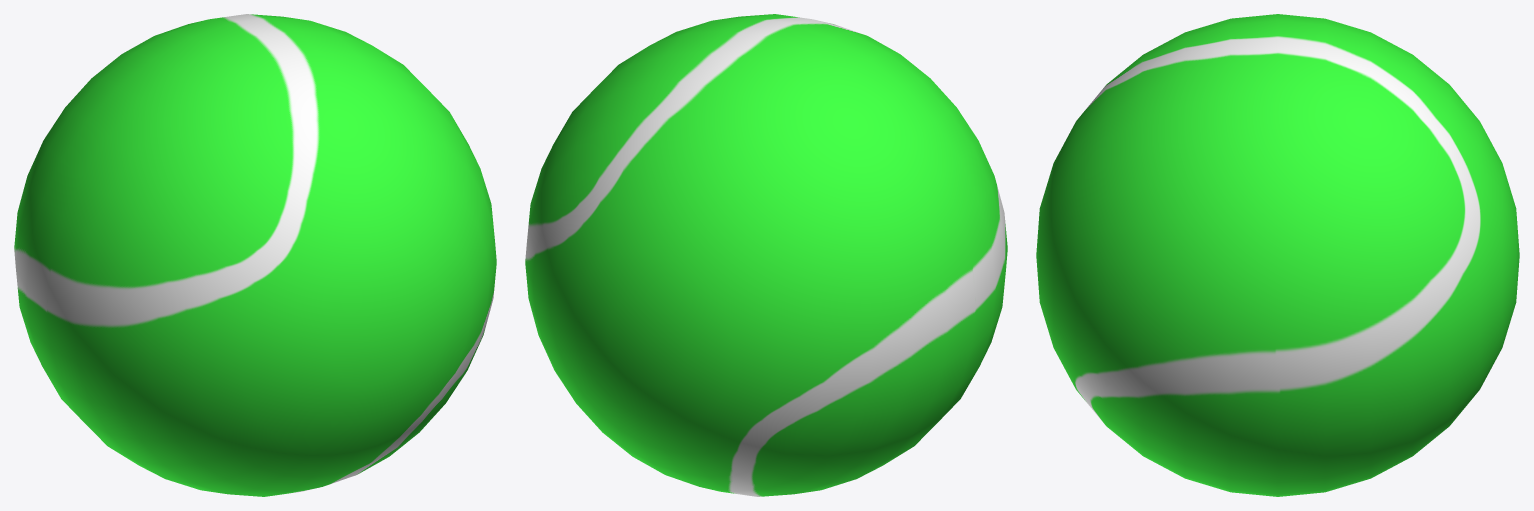
The model's file is tennis_ball.dae.
3 renders of one model, left to right at view 1: azimuth 30°, elevation 25°; view 2: azimuth 150°, elevation 25°; view 3: azimuth 270°, elevation 25°, orthographic.
Visible parts, largest first — view 1: Sphere; view 2: Sphere; view 3: Sphere.
Part boxes in pixels (x1,y1,x2,y2): Sphere: [14, 14, 496, 496]; Sphere: [525, 14, 1007, 496]; Sphere: [1036, 14, 1519, 496].
Bounding box in the file's own units: 1.98 × 1.98 × 1.98.
1 material, 1 textured.
